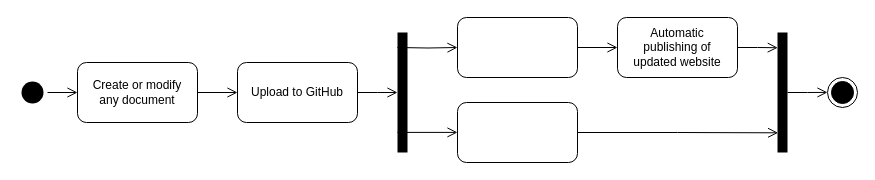
Some shapes in this 875 by 180 pixel diagram are drawn without their labels. Each missing label, with the centre of its shape:
Automatic archiving of documents: the point at 517,132
Automatic conversion to website code: the point at 517,47
